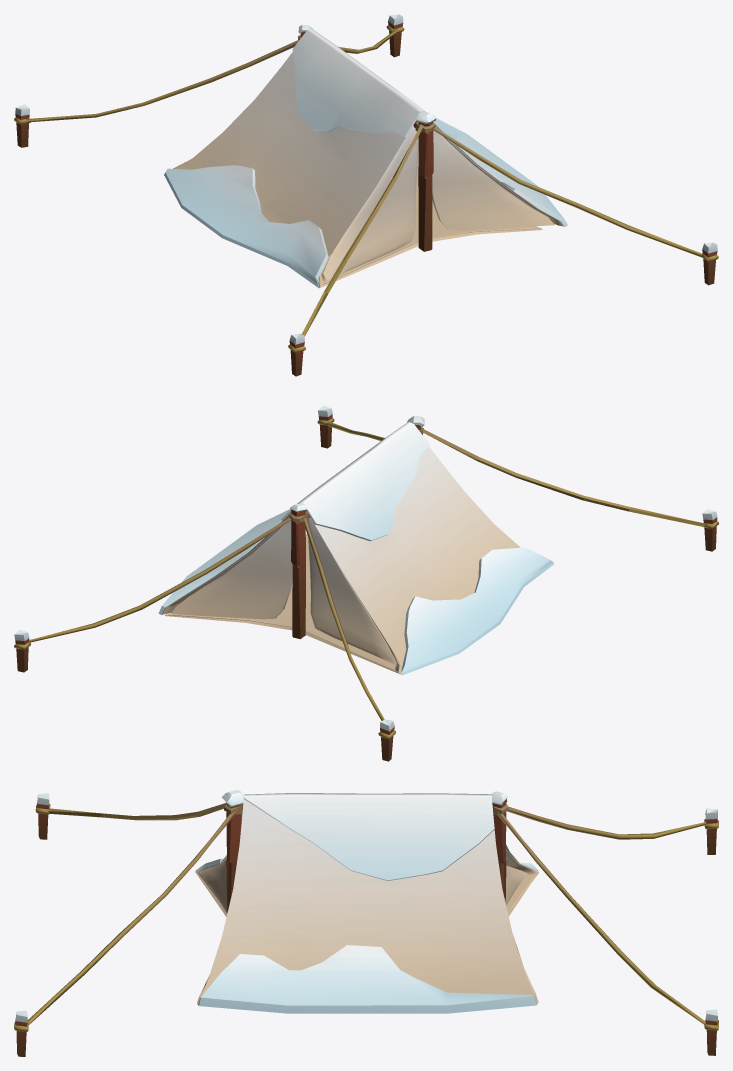
3 views of the same model, one above another, from view 1: azimuth 30°, elevation 25°; view 2: azimuth 150°, elevation 25°; view 3: azimuth 270°, elevation 25° (orthographic). The views are drawn at different scales.
Visible parts, largest first — view 1: SnowyTent; view 2: SnowyTent; view 3: SnowyTent.
Boxes of the visible parts, x1,y1,x2,y2 form: SnowyTent: (14,14,718,376); SnowyTent: (14,405,718,761); SnowyTent: (14,790,718,1056).
Bounding box in the file's own units: 5.89 × 1.98 × 7.84.
1 material, 1 textured.
